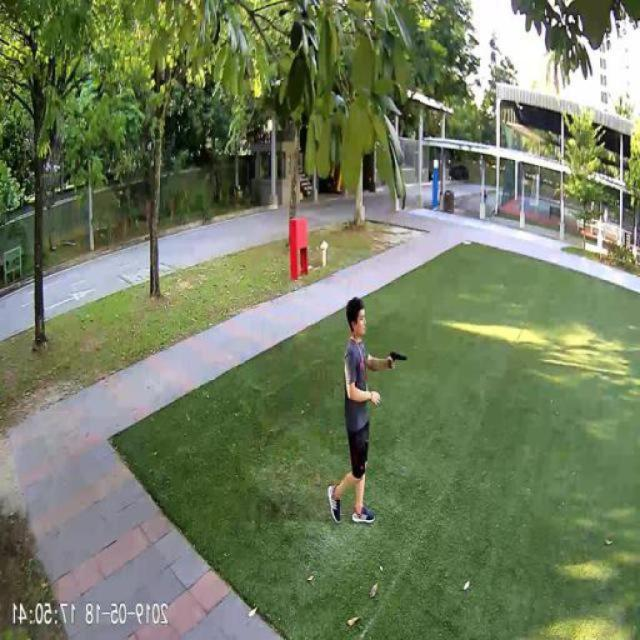pistol: (391, 349, 409, 369)
